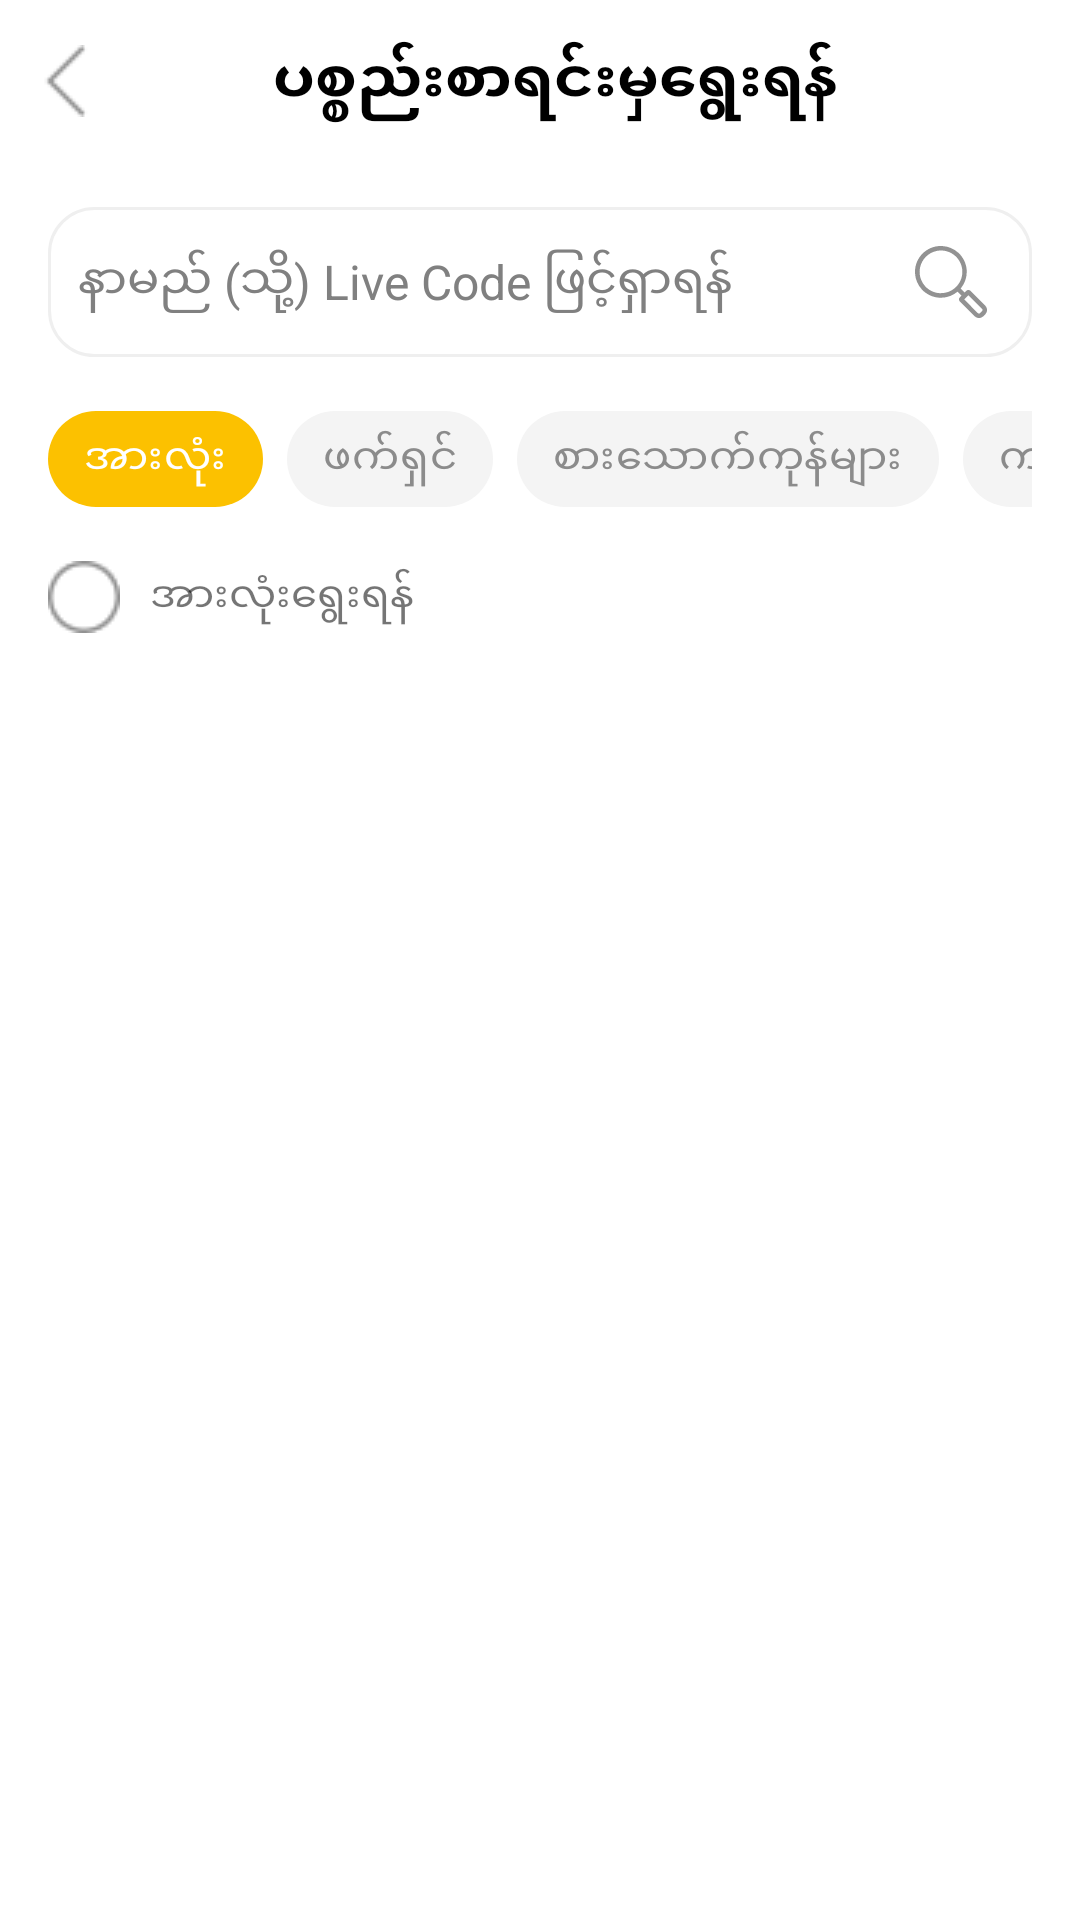

Named icons in this screenshot (1080 x 1920) and their centers, (x=x, y=y):
back: (x=66, y=81)
checkbox select unselect: (x=84, y=597)
search: (x=951, y=282)
